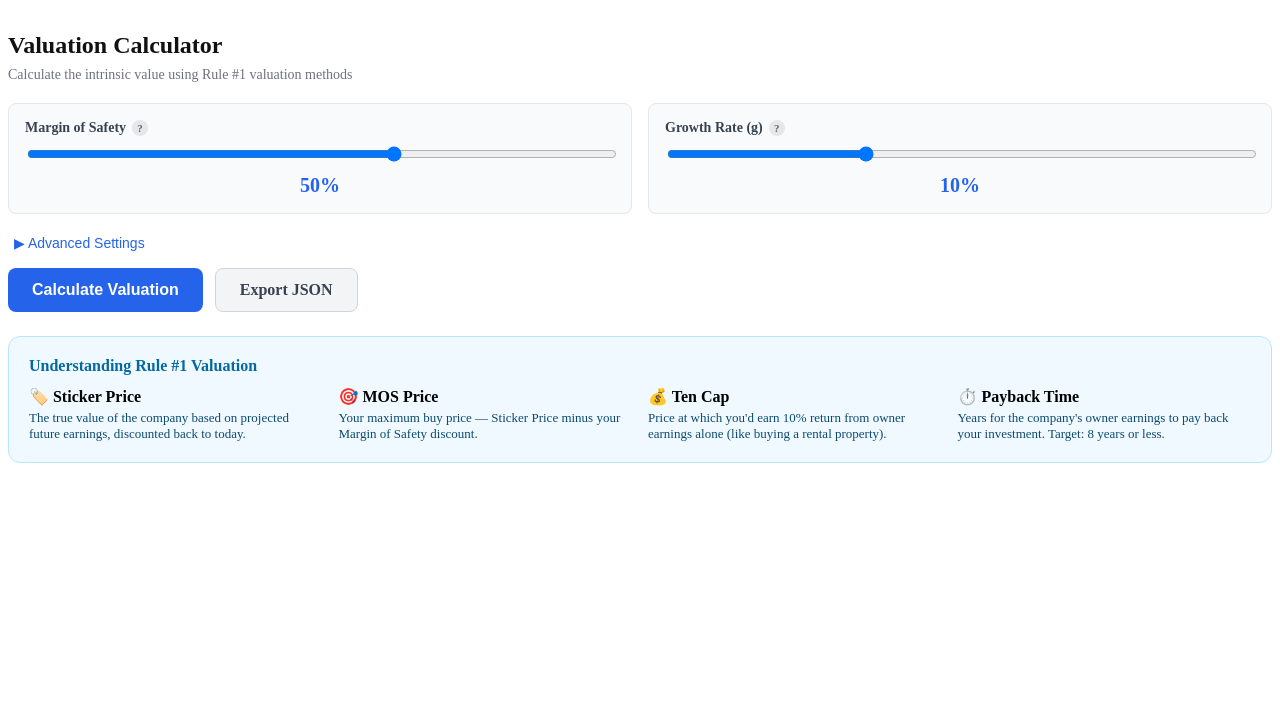
Test: ValuationPanel › Advanced Settings › shows advanced settings when toggled
Click the button "▶ Advanced Settings" at (79, 243), box [8,234,151,252]
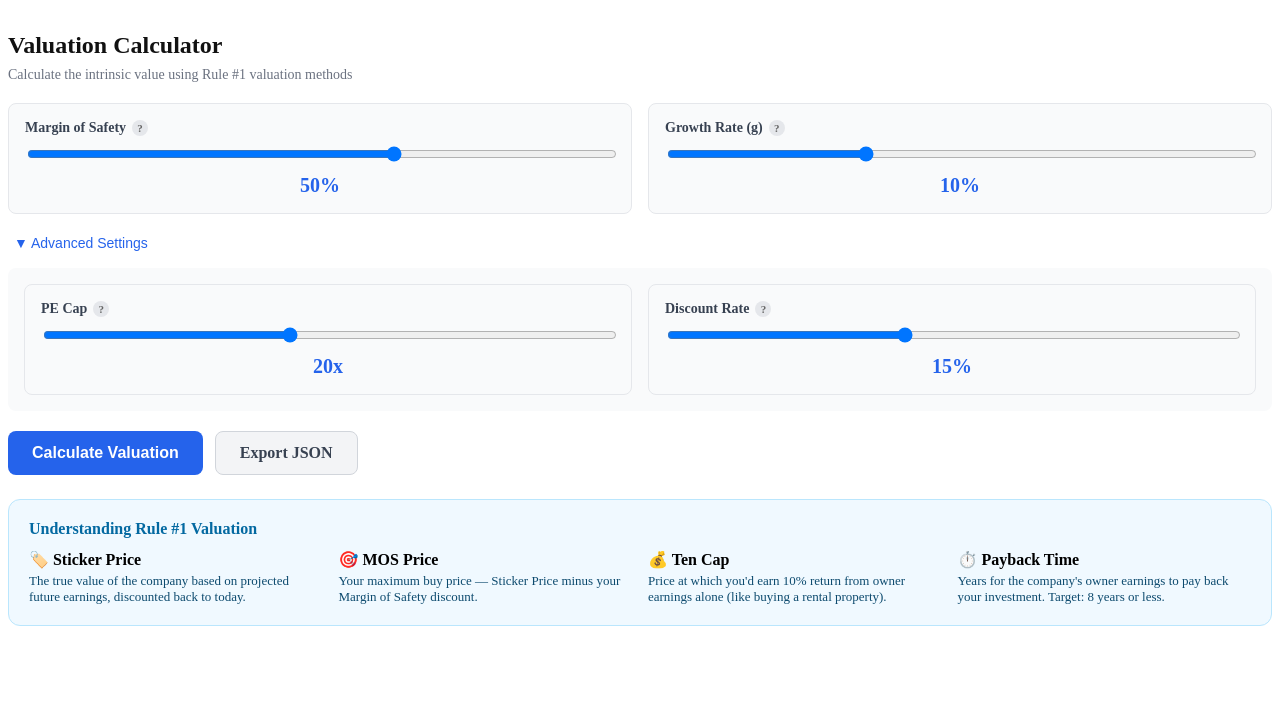
Now the text "PE Cap" is shown, box [41,301,87,317]
Now the text "Discount Rate" is shown, box [665,301,749,317]
